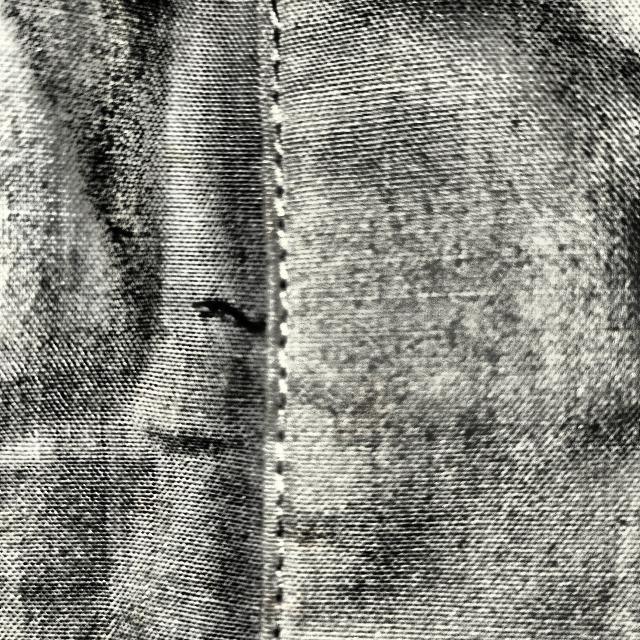Stitch: (165, 260, 378, 388)
